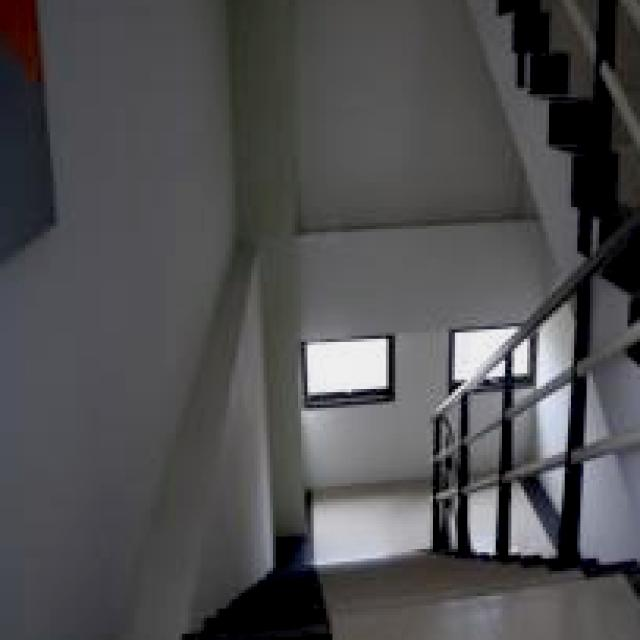downstair: (271, 559, 531, 640)
